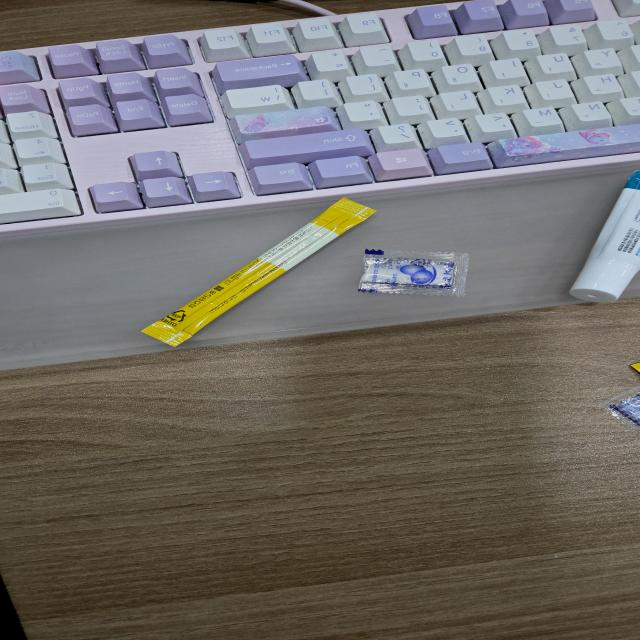lacto: (134, 197, 375, 360), (628, 357, 640, 376)
lib: (569, 168, 640, 306)
salt: (356, 247, 472, 301), (605, 384, 640, 430)
